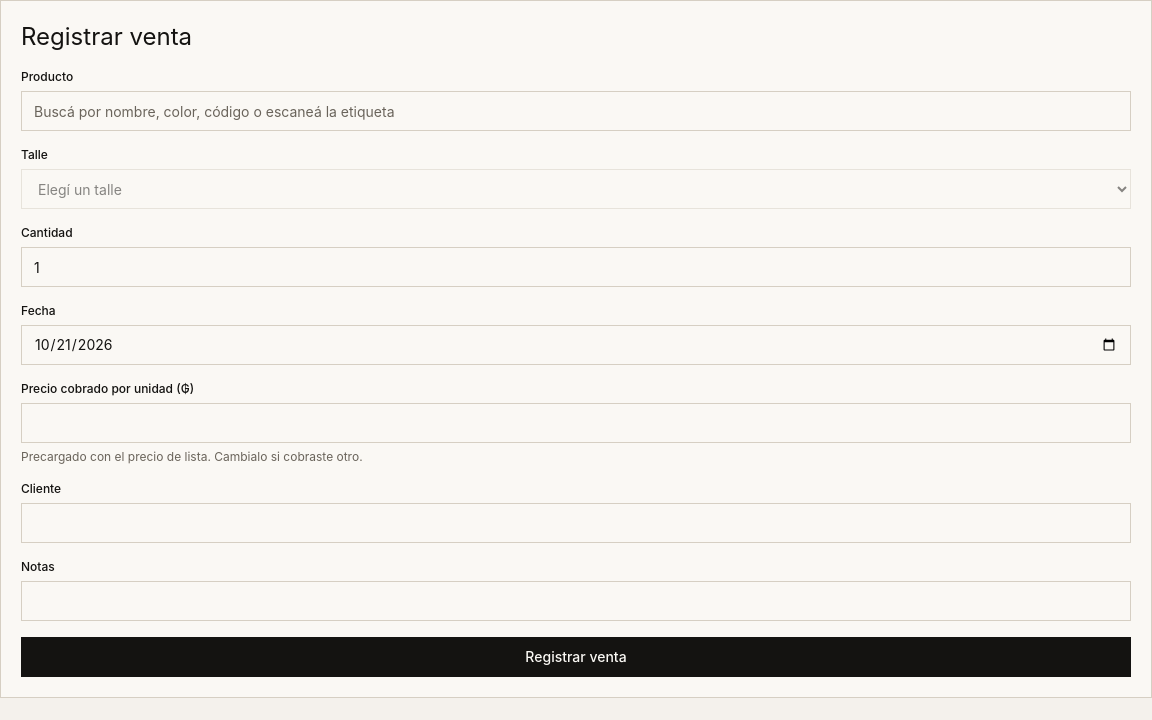
Test: SaleForm › selects the product on click and keeps a hidden productId
This screenshot has width=1152, height=720.
Type "vestido" into the dropdown labelled "Producto" at [576, 111], box x1=21 y1=91 x2=1131 y2=131
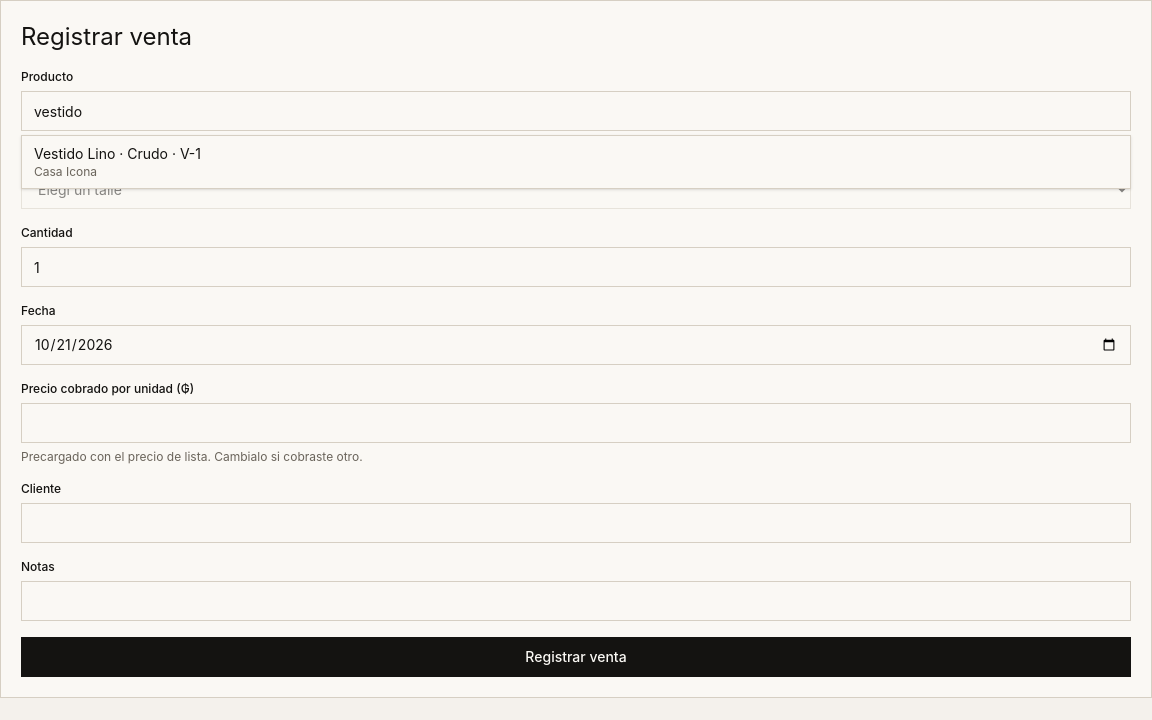
Click the option "Vestido Lino · Crudo · V-1 Casa Icona" at [118, 162], box x1=34 y1=145 x2=201 y2=179
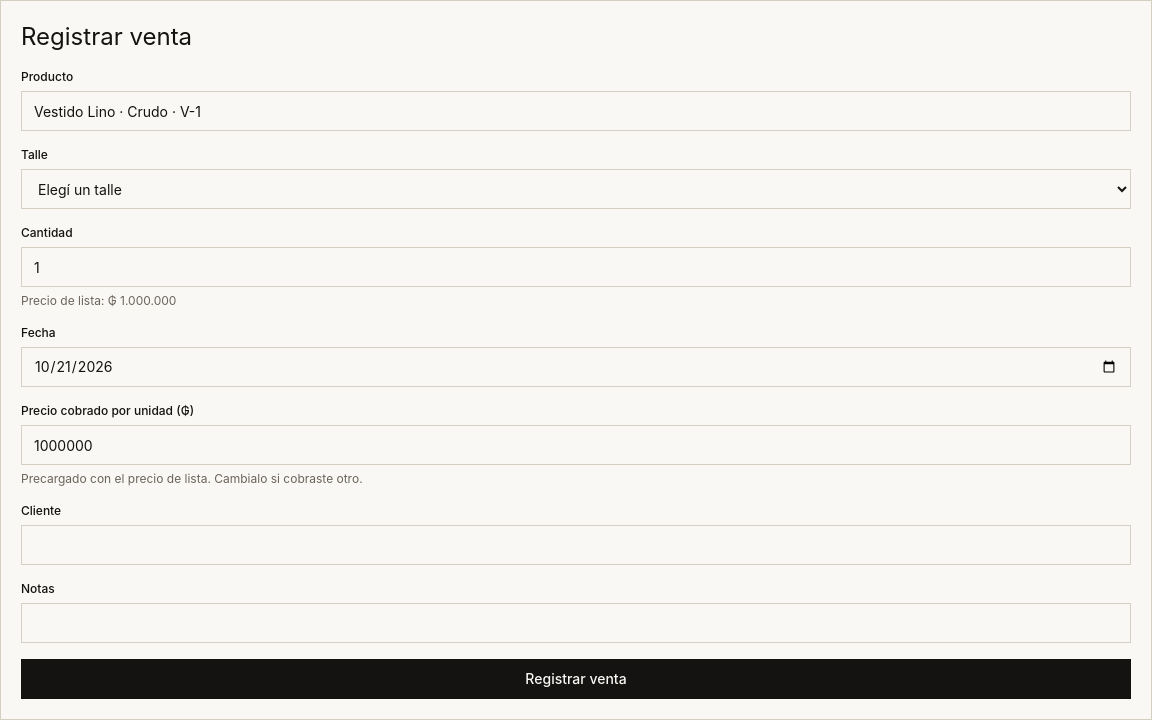
Check: the element named "productId" holds "p1", box x1=21 y1=69 x2=1131 y2=131
Check: the dropdown labelled "Producto" holds "Vestido Lino · Crudo · V-1", box x1=21 y1=91 x2=1131 y2=131
Check: the dropdown labelled "Talle" is enabled, box x1=21 y1=169 x2=1131 y2=209
